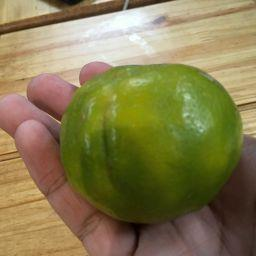Unripe: (61, 64, 241, 224)
